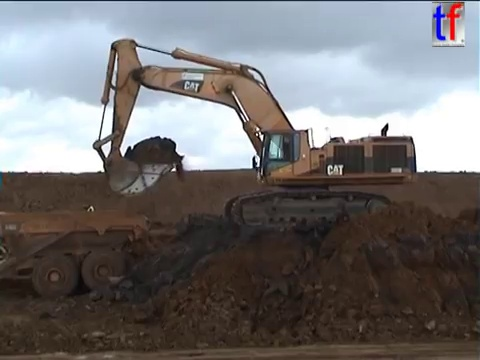excavator: (90, 34, 419, 234)
truck: (1, 209, 152, 300)
worker: (83, 200, 97, 227)
